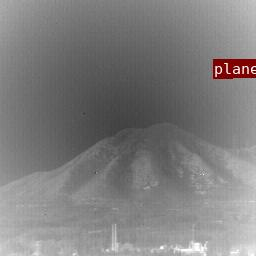plane: (213, 59, 232, 78)
